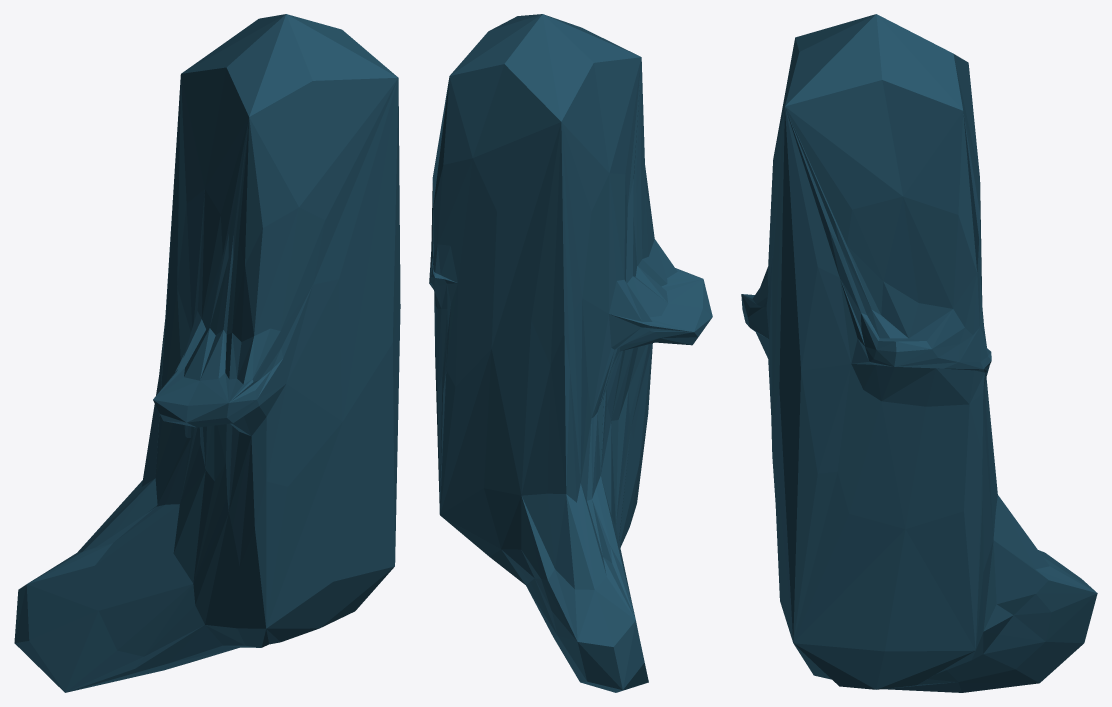
3 renders of one model, left to right at view 1: azimuth 30°, elevation 25°; view 2: azimuth 150°, elevation 25°; view 3: azimuth 270°, elevation 25°, orthographic. The views are drawn at different scales.
Parts seen in each view (by area): view 1: 238_Cube.979; view 2: 238_Cube.979; view 3: 238_Cube.979.
Part boxes in pixels (<box>): 238_Cube.979: <box>14,14,400,692</box>; 238_Cube.979: <box>429,14,712,692</box>; 238_Cube.979: <box>741,14,1097,692</box>.
Bounding box in the file's own units: 6.22 × 13.84 × 6.04.
